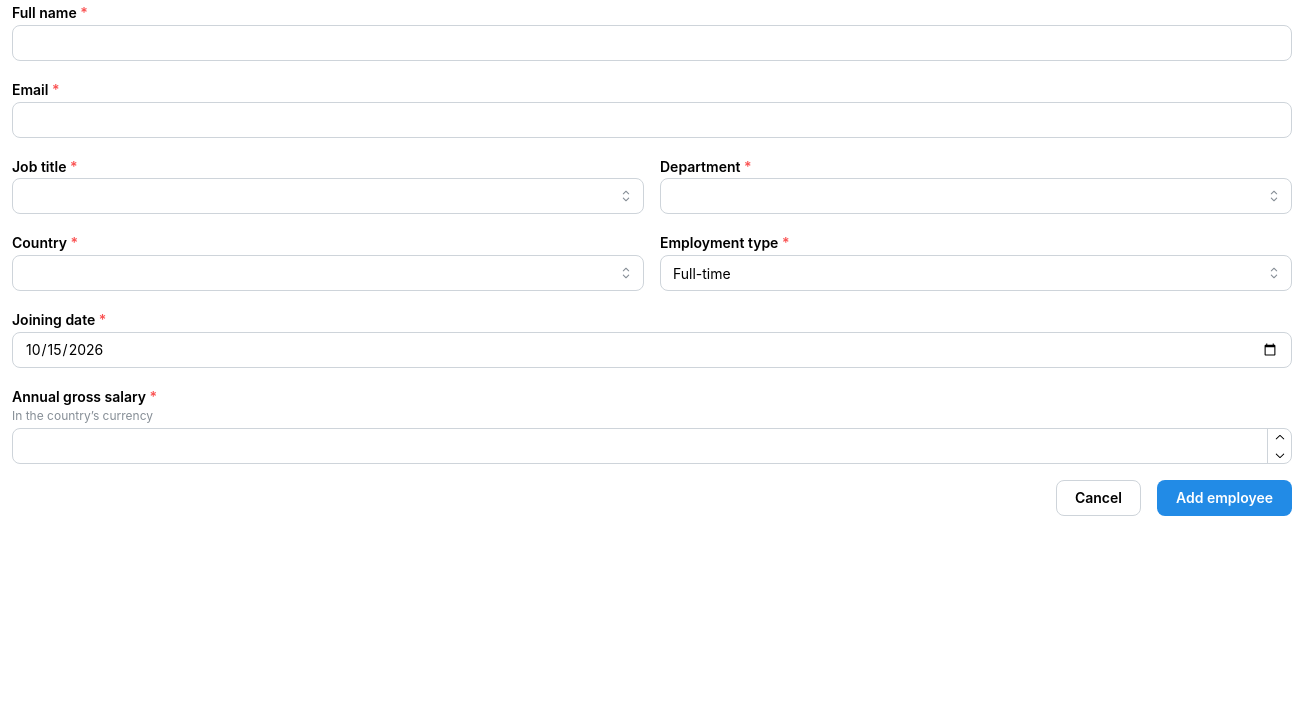
EmployeeForm › shows validation messages from the shared schema and does not submit
The image size is (1304, 720).
Click the button "Add employee" at (1224, 498), box [1157, 480, 1292, 516]
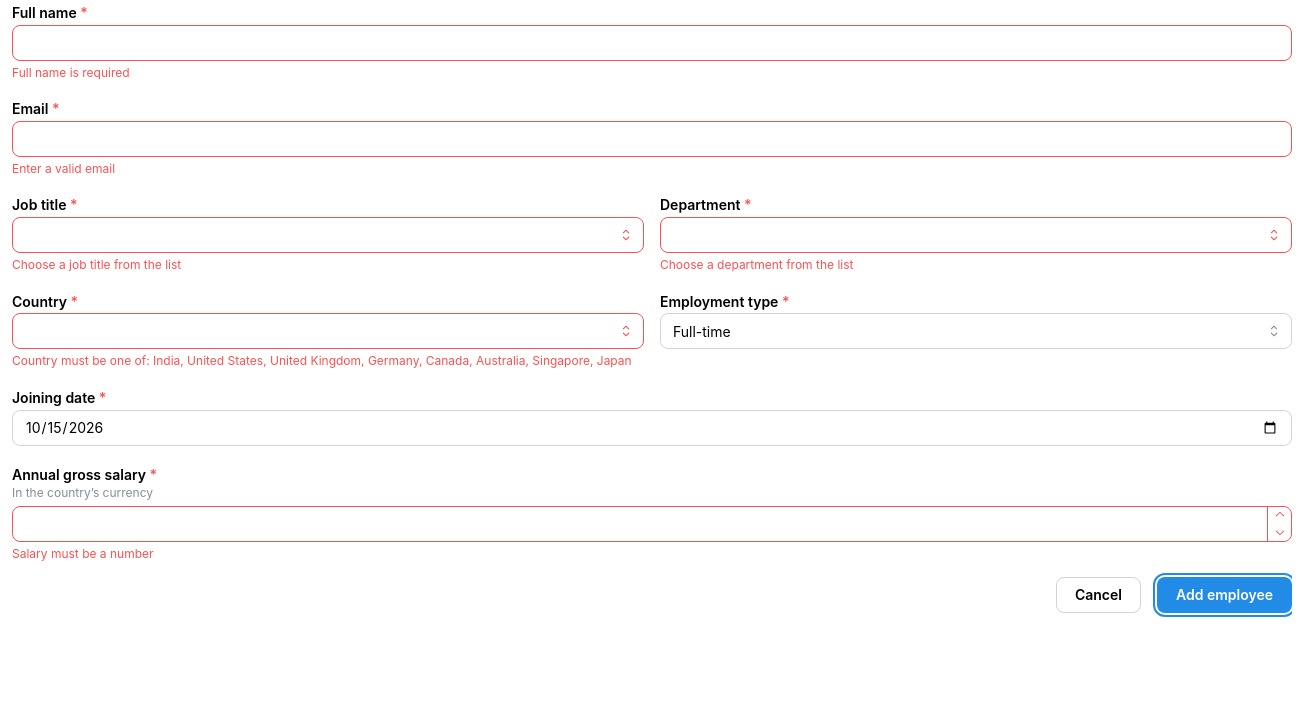
Now the text "Full name is required" is shown, box [12, 65, 130, 80]
Now the text "Enter a valid email" is shown, box [12, 161, 115, 176]
